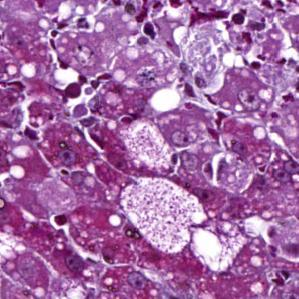ballooning: (115, 174, 210, 256), (189, 216, 253, 276)
